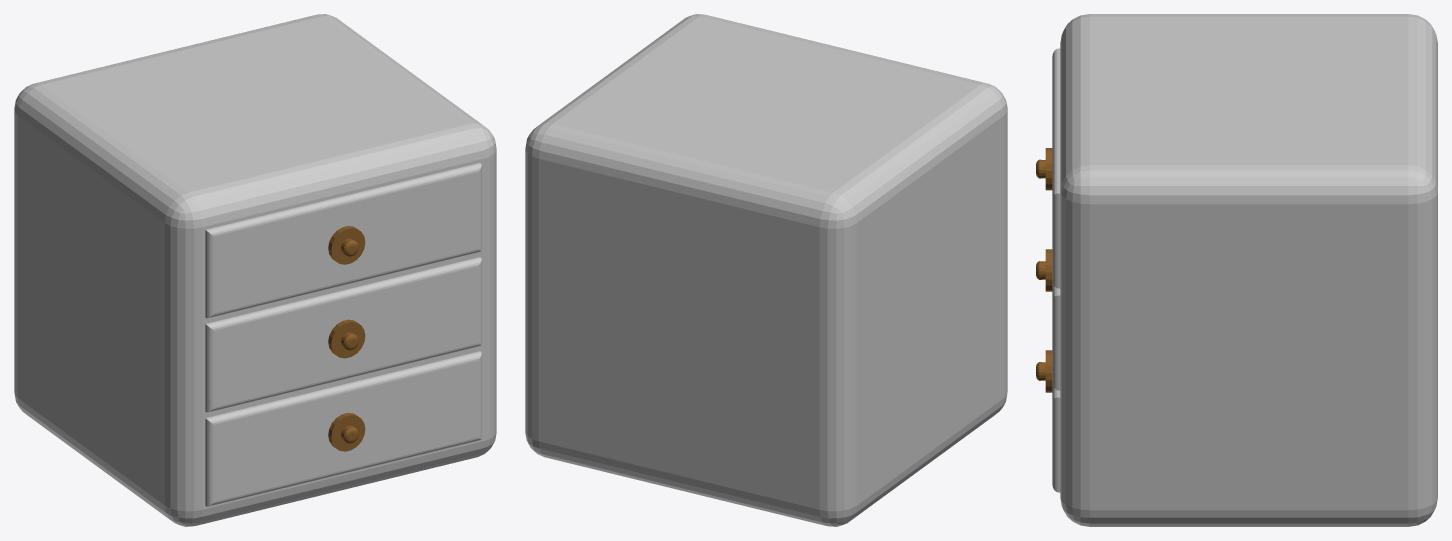
File: Wardrobe_17.fbx
The picture shows the model from 3 angles, left to right: view 1: azimuth 30°, elevation 25°; view 2: azimuth 150°, elevation 25°; view 3: azimuth 270°, elevation 25°; orthographic projection. The views are drawn at different scales.
Visible parts, largest first — view 1: Wardrobe_17, Wardrobe_17 Door_2, Wardrobe_17 Door_3, Wardrobe_17 Door_1; view 2: Wardrobe_17; view 3: Wardrobe_17, Wardrobe_17 Door_1, Wardrobe_17 Door_2, Wardrobe_17 Door_3.
Part boxes in pixels (x1=…): Wardrobe_17: x1=14, y1=14, x2=496, y2=526; Wardrobe_17 Door_2: x1=205, y1=351, x2=481, y2=506; Wardrobe_17 Door_3: x1=205, y1=257, x2=481, y2=412; Wardrobe_17 Door_1: x1=205, y1=163, x2=481, y2=318; Wardrobe_17: x1=525, y1=14, x2=1007, y2=526; Wardrobe_17: x1=1060, y1=14, x2=1437, y2=526; Wardrobe_17 Door_1: x1=1036, y1=48, x2=1060, y2=288; Wardrobe_17 Door_2: x1=1036, y1=350, x2=1060, y2=492; Wardrobe_17 Door_3: x1=1036, y1=249, x2=1060, y2=390.
Bounding box in the file's own units: 0.4658 × 0.4502 × 0.4562.
